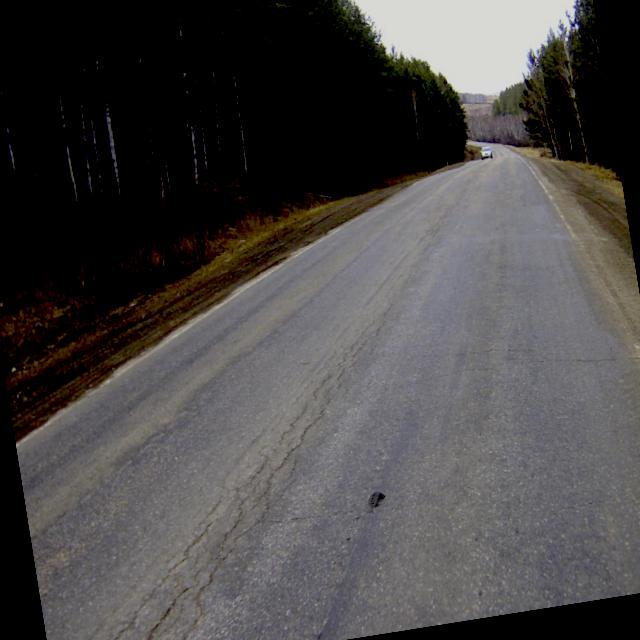road: (15, 140, 640, 640)
